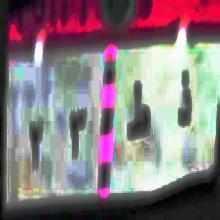2: (25, 113, 46, 184)
3: (67, 97, 88, 163)
Taa: (126, 82, 151, 145)
zaal: (172, 59, 194, 135)
